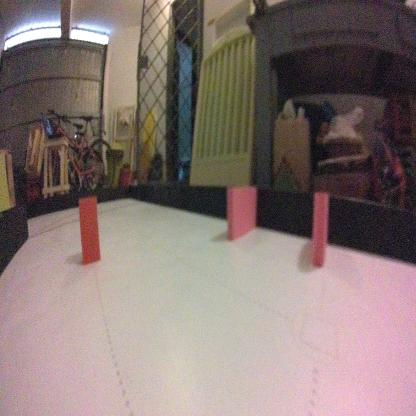magenta: (224, 183, 260, 243), (307, 189, 330, 273)
